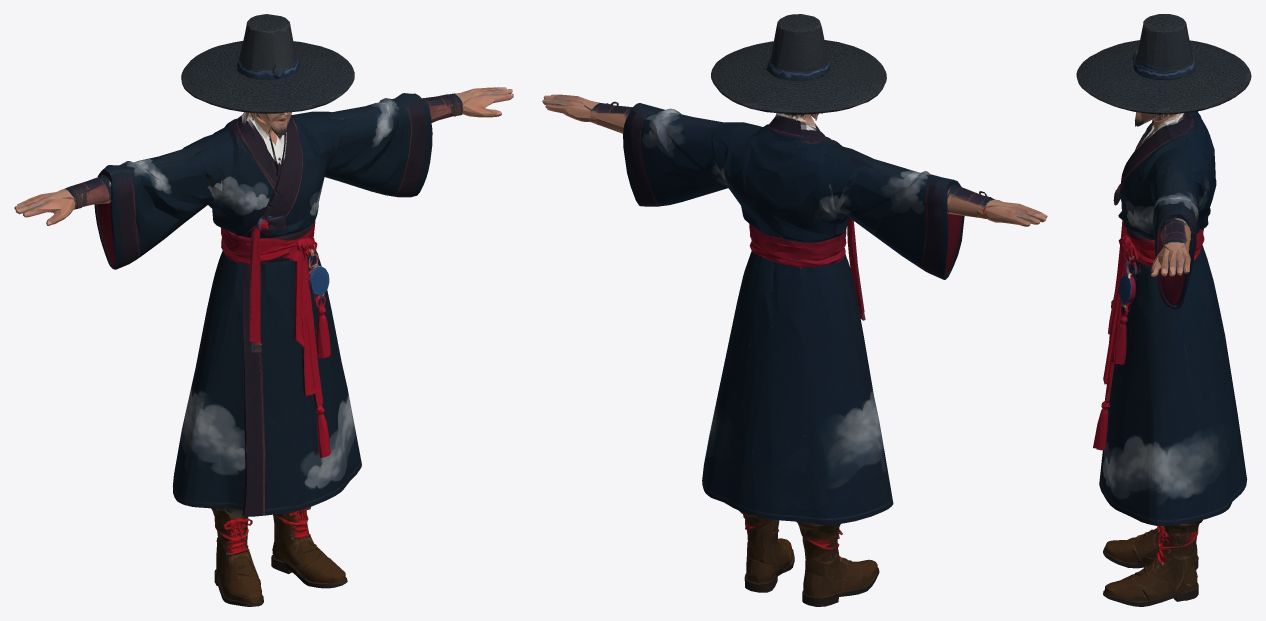
File: doho_meshy_clean_retex.glb
3 views of the same model, side by side, from view 1: azimuth 30°, elevation 25°; view 2: azimuth 150°, elevation 25°; view 3: azimuth 270°, elevation 25° (orthographic).
Bounding box in the file's own units: 1.77 × 1.9 × 0.5406.
1 material, 1 textured.
